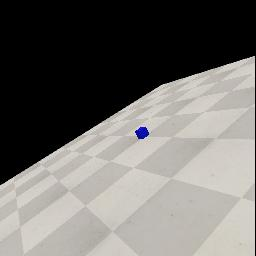box: (135, 127, 149, 139)
